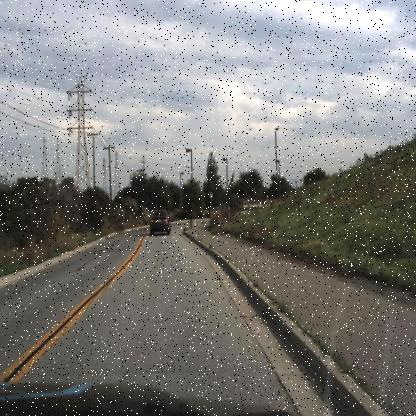car: (148, 211, 172, 236)
